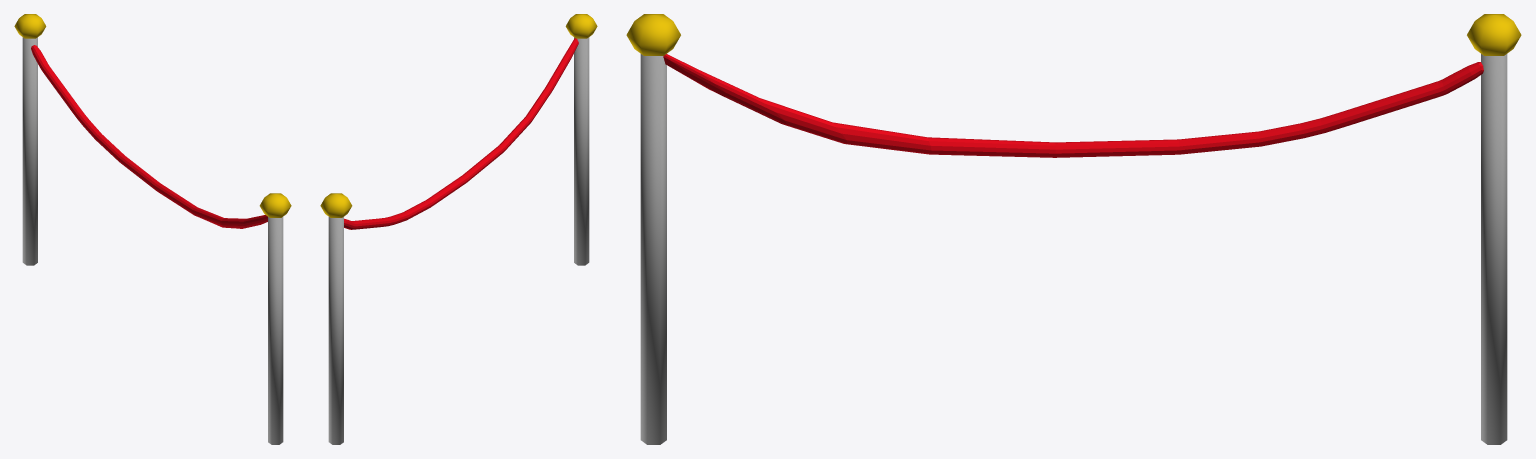
The model's file is Rope Barrier2.fbx.
3 renders of one model, left to right at view 1: azimuth 30°, elevation 25°; view 2: azimuth 150°, elevation 25°; view 3: azimuth 270°, elevation 25°, orthographic. The views are drawn at different scales.
Parts seen in each view (by area): view 1: Sphere.001, Sphere, Cylinder; view 2: Sphere, Sphere.001, Cylinder; view 3: Cylinder, Sphere, Sphere.001.
Part boxes in pixels (box(x1,y1,x2,y2)): Sphere.001: box(259, 193, 291, 444); Sphere: box(14, 14, 46, 265); Cylinder: box(31, 45, 267, 228); Sphere: box(320, 193, 352, 444); Sphere.001: box(565, 14, 597, 265); Cylinder: box(344, 38, 578, 229); Cylinder: box(663, 54, 1483, 157); Sphere: box(1467, 14, 1521, 444); Sphere.001: box(626, 14, 680, 444).
Bounding box in the file's own units: 36.41 × 359 × 686.
